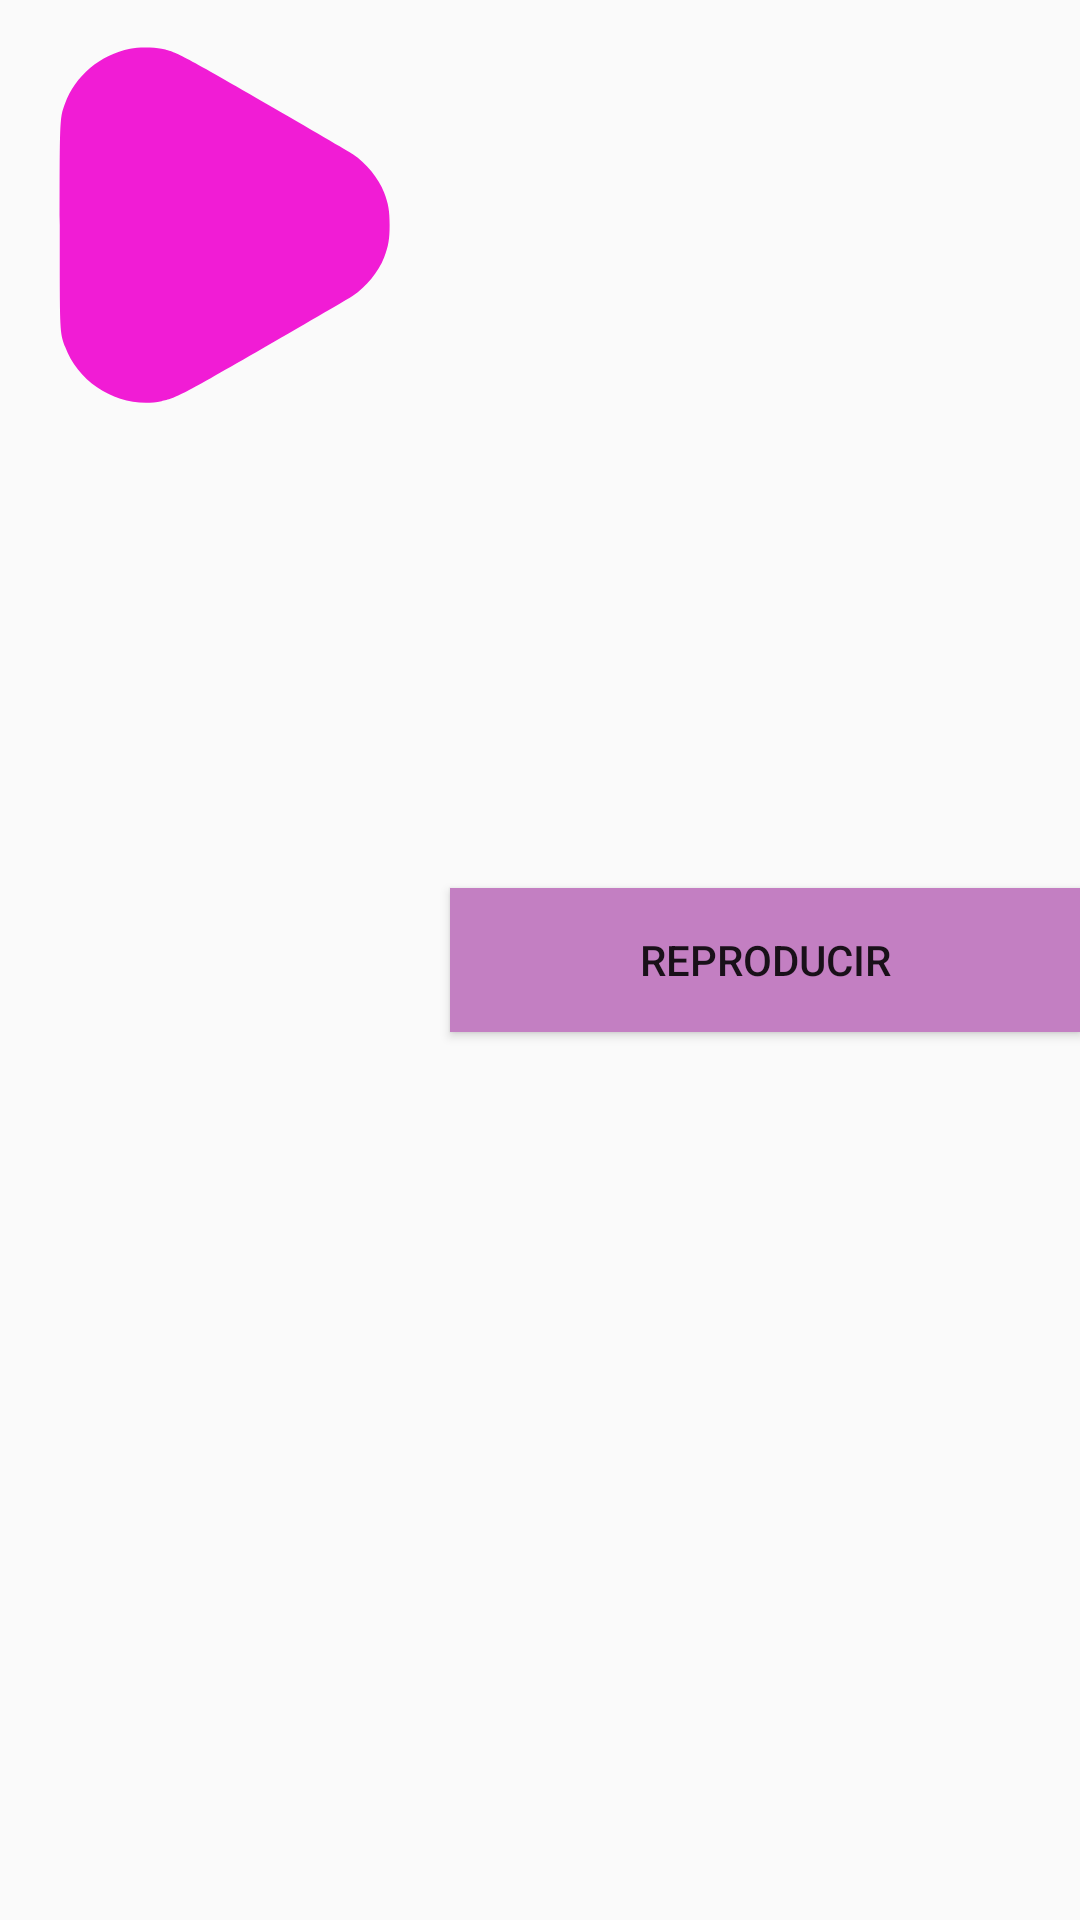

Named icons in this screenshot (1080 × 1920) and their bounding boxes, BBox(x1, y1, x2, y2):
jugar: BBox(59, 47, 390, 403)
